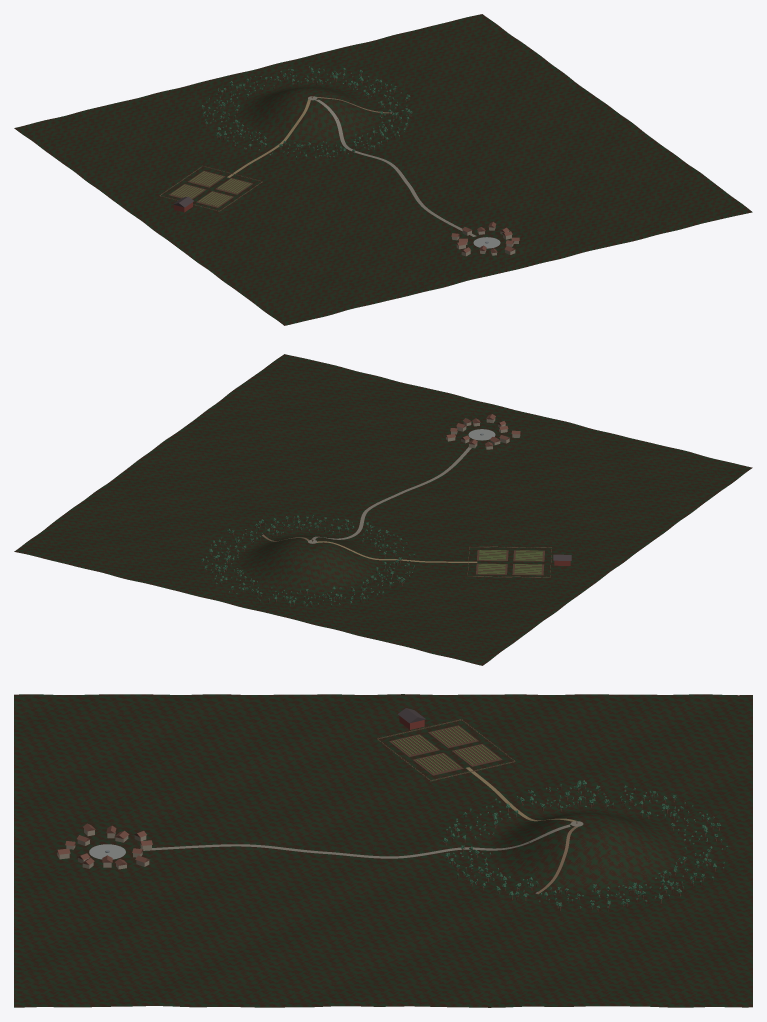
The model's file is wizard_homestead_environment.glb.
3 views of the same model, one above another, from view 1: azimuth 30°, elevation 25°; view 2: azimuth 150°, elevation 25°; view 3: azimuth 270°, elevation 25° (orthographic). The views are drawn at different scales.
Parts seen in each view (by area): view 1: terrain-ground-col, farm_soil, farm_crops, path_village; view 2: terrain-ground-col, farm_soil, farm_crops, path_village; view 3: terrain-ground-col, farm_soil, farm_crops, path_village, village_house_roofs-col, village_house_walls-col.
Boxes of the visible parts, bbox=[...] form: terrain-ground-col: bbox=[14, 14, 752, 325]; farm_soil: bbox=[168, 171, 252, 207]; farm_crops: bbox=[171, 171, 250, 206]; path_village: bbox=[315, 99, 476, 236]; terrain-ground-col: bbox=[14, 354, 752, 665]; farm_soil: bbox=[476, 550, 544, 575]; farm_crops: bbox=[478, 550, 542, 574]; path_village: bbox=[311, 447, 471, 539]; terrain-ground-col: bbox=[14, 694, 752, 1007]; farm_soil: bbox=[389, 725, 502, 775]; farm_crops: bbox=[392, 726, 499, 773]; path_village: bbox=[140, 824, 570, 858]; village_house_roofs-col: bbox=[56, 823, 152, 865]; village_house_walls-col: bbox=[57, 828, 151, 869].
Size of the model in its own units: 800 by 36.8 by 800.
22 materials, 1 textured.
